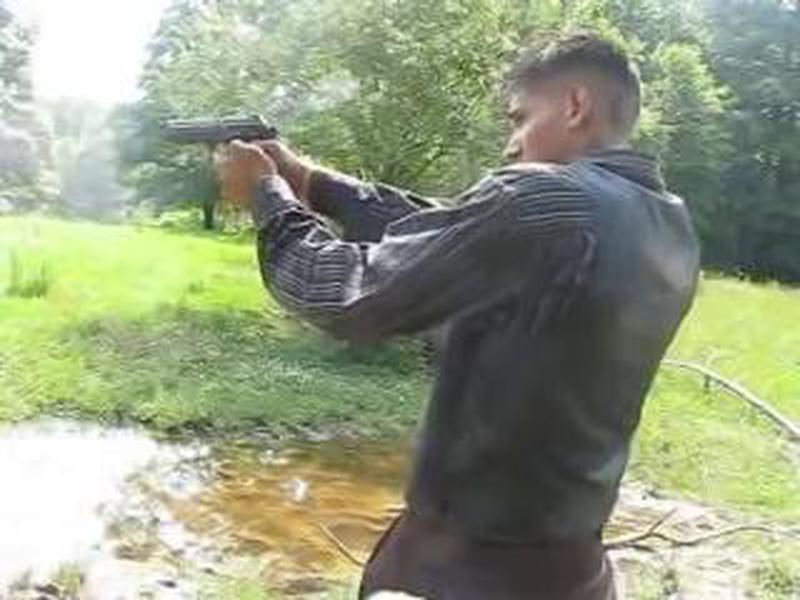Pistola: (161, 94, 301, 211)
